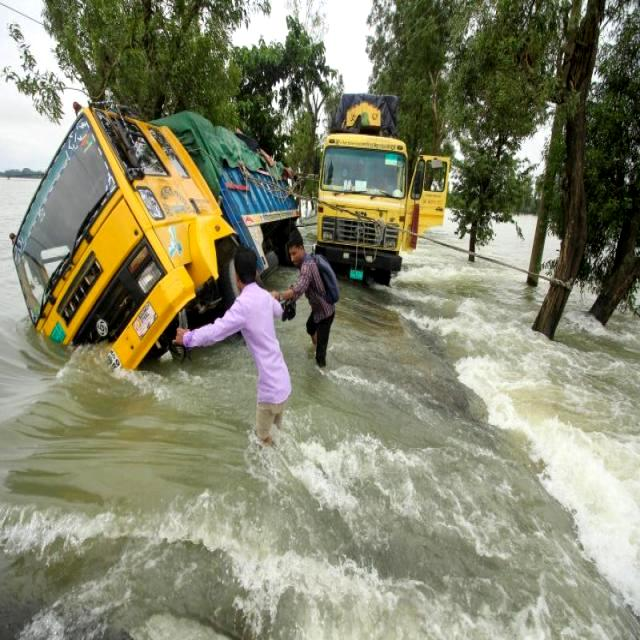civilian: (174, 238, 299, 446), (277, 234, 347, 376)
